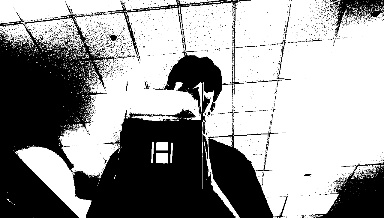H: (150, 140, 173, 162)
